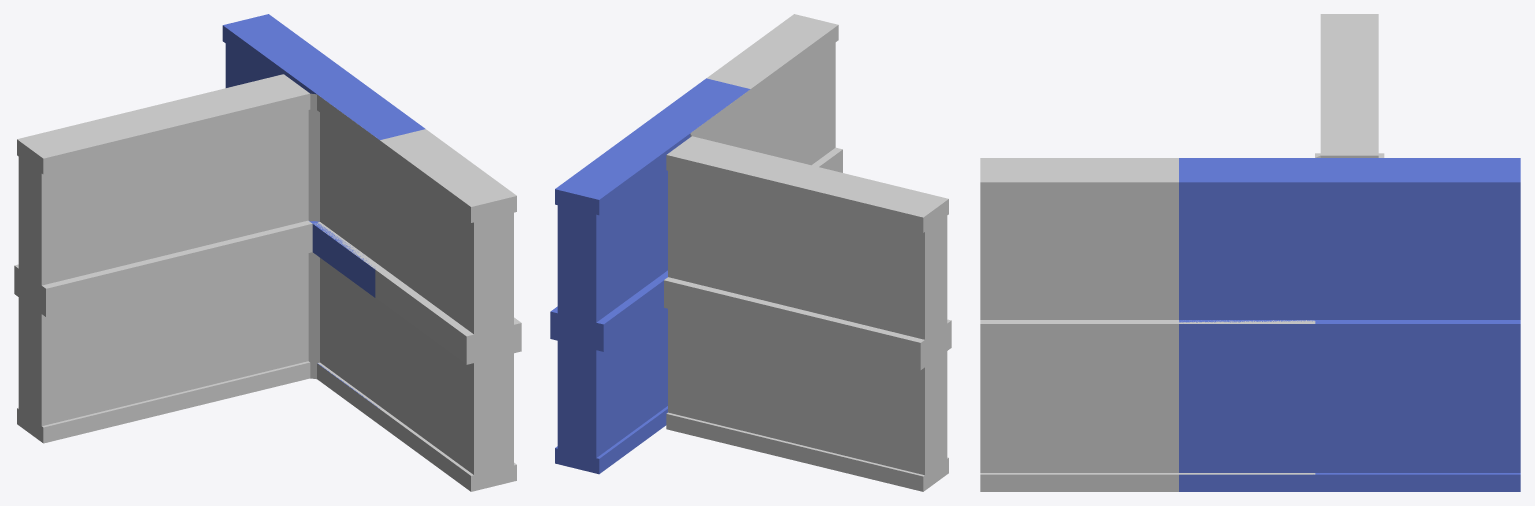
File: Walls_Style_1_V2.fbx
3 views of the same model, side by side, from view 1: azimuth 30°, elevation 25°; view 2: azimuth 150°, elevation 25°; view 3: azimuth 270°, elevation 25° (orthographic). The views are drawn at different scales.
Visible parts, largest first — view 1: Corner Wall 1_V2, Flat Wall 1_V2; view 2: Corner Wall 1_V2, Flat Wall 1_V2; view 3: Flat Wall 1_V2, Corner Wall 1_V2.
Boxes of the visible parts, <box> form: Corner Wall 1_V2: <box>14,74,521,491</box>; Flat Wall 1_V2: <box>222,14,425,408</box>; Corner Wall 1_V2: <box>664,14,951,491</box>; Flat Wall 1_V2: <box>550,78,750,474</box>; Flat Wall 1_V2: <box>1179,158,1520,491</box>; Corner Wall 1_V2: <box>980,14,1384,491</box>.
Bounding box in the file's own units: 118 × 100 × 158.
